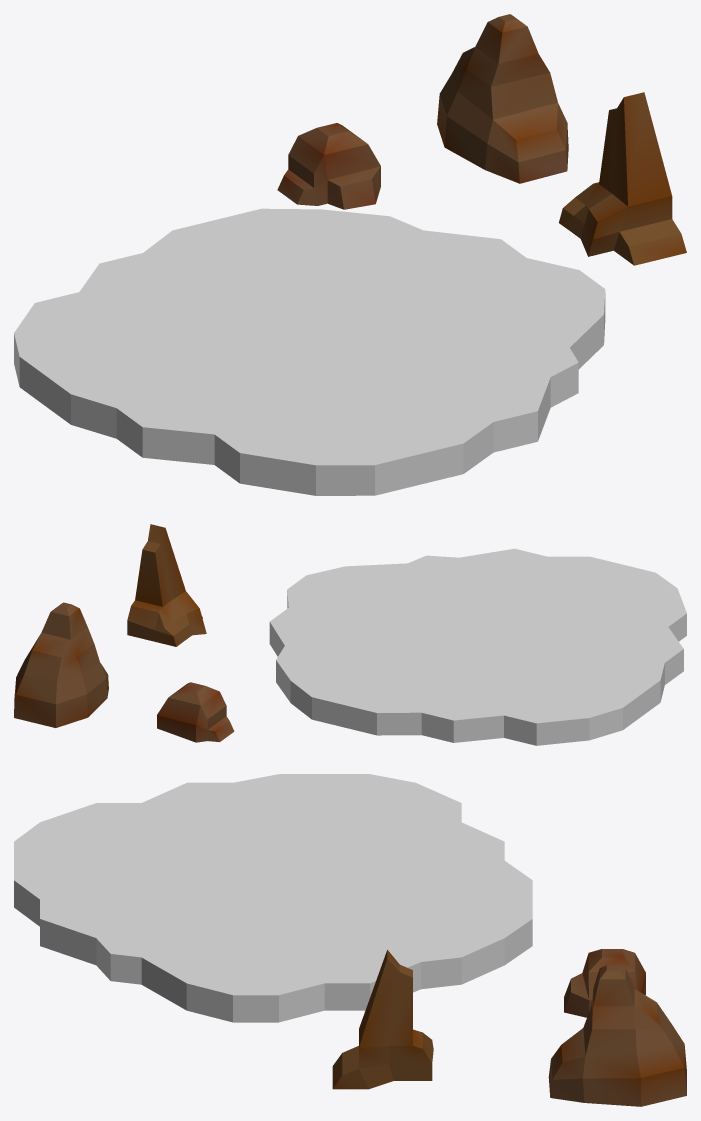
File: Rochedos.fbx
The picture shows the model from 3 angles, top to bottom: view 1: azimuth 30°, elevation 25°; view 2: azimuth 150°, elevation 25°; view 3: azimuth 270°, elevation 25°; orthographic projection. The views are drawn at different scales.
Visible parts, largest first — view 1: Plataforma, Rocha grande, Rocha fina, Rocha pequena; view 2: Plataforma, Rocha grande, Rocha fina, Rocha pequena; view 3: Plataforma, Rocha grande, Rocha fina, Rocha pequena.
Boxes of the visible parts, x1=… form: Plataforma: x1=14, y1=208, x2=605, y2=495; Rocha grande: x1=437, y1=14, x2=568, y2=183; Rocha fina: x1=559, y1=92, x2=686, y2=265; Rocha pequena: x1=277, y1=123, x2=380, y2=209; Plataforma: x1=269, y1=548, x2=686, y2=745; Rocha grande: x1=14, y1=602, x2=108, y2=727; Rocha fina: x1=127, y1=524, x2=206, y2=646; Rocha pequena: x1=157, y1=682, x2=234, y2=742; Plataforma: x1=14, y1=774, x2=532, y2=1022; Rocha grande: x1=548, y1=965, x2=686, y2=1106; Rocha fina: x1=332, y1=950, x2=433, y2=1089; Rocha pequena: x1=564, y1=949, x2=645, y2=1017.
Bounding box in the file's own units: 3072 × 649 × 2966.
